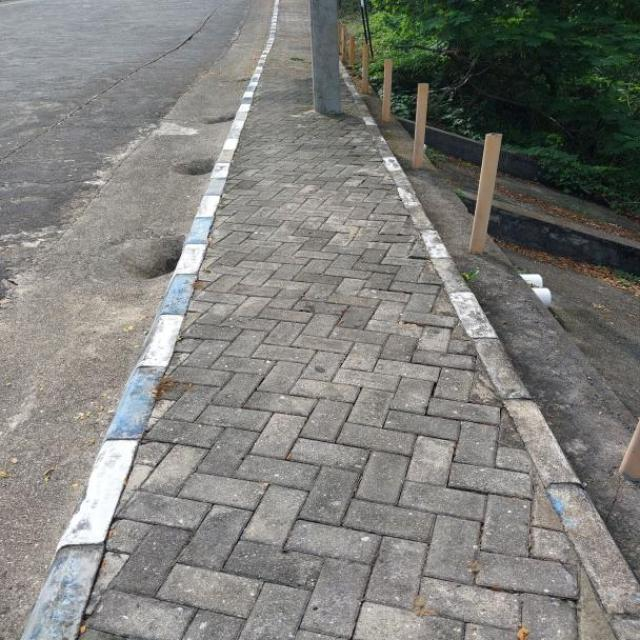barrier ahead at: (468, 125, 508, 256), (409, 76, 435, 171), (376, 55, 397, 124)
electric pole ahead at: (300, 0, 354, 119)
